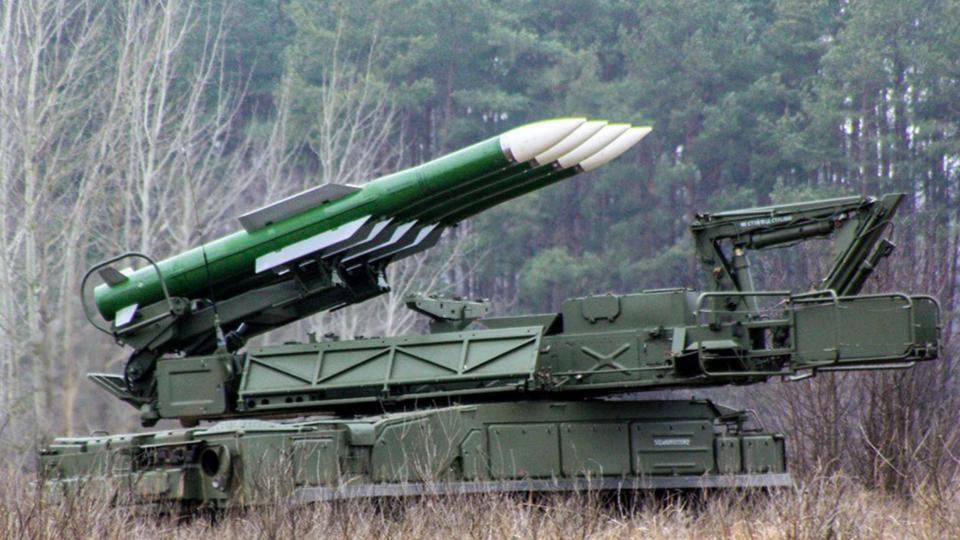rszo: (40, 103, 959, 527)
